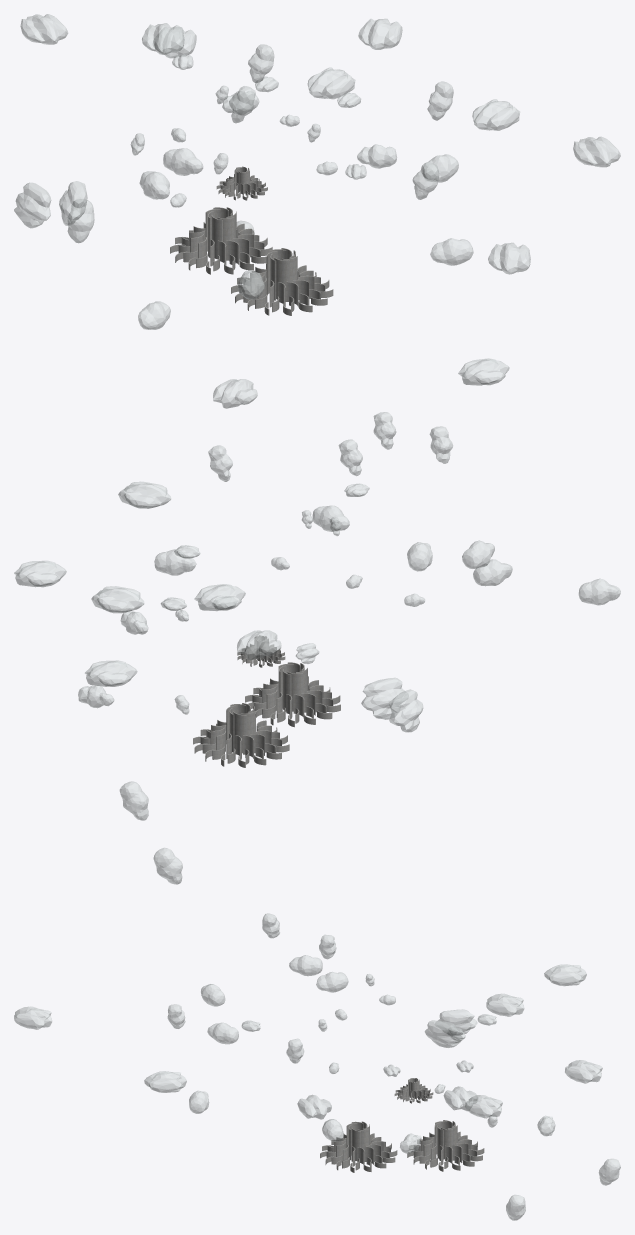
Rendered from Clouds.gltf.
3 renders of one model, top to bottom at view 1: azimuth 30°, elevation 25°; view 2: azimuth 150°, elevation 25°; view 3: azimuth 270°, elevation 25°, orthographic. The views are drawn at different scales.
Parts seen in each view (by area): view 1: Cloud_Cumulus (3) (×10), Raum - Folgen VR Model V1 (×3), Cloud_Cumulus_Med (×7), Cloud_Cumulus (×6); view 2: Cloud_Cumulus (3) (×10), Raum - Folgen VR Model V1 (×3), Cloud_Cumulus_Med (×6); view 3: Cloud_Cumulus (3) (×10), Raum - Folgen VR Model V1 (×3), Cloud_Cumulus_Med (×4).
Boxes of the visible parts, bbox=[...] form: Cloud_Cumulus (3) (×10): bbox=[14, 14, 620, 274]; Raum - Folgen VR Model V1 (×3): bbox=[170, 166, 333, 315]; Cloud_Cumulus_Med (×7): bbox=[67, 148, 473, 329]; Cloud_Cumulus (×6): bbox=[222, 44, 453, 199]; Cloud_Cumulus (3) (×10): bbox=[14, 358, 509, 732]; Raum - Folgen VR Model V1 (×3): bbox=[193, 635, 340, 767]; Cloud_Cumulus_Med (×6): bbox=[119, 505, 620, 884]; Cloud_Cumulus (3) (×10): bbox=[14, 964, 602, 1119]; Raum - Folgen VR Model V1 (×3): bbox=[320, 1078, 484, 1172]; Cloud_Cumulus_Med (×4): bbox=[207, 955, 620, 1185].
Size of the model in its own units: 4.54 by 3.18 by 7.
2 materials, 1 textured.
